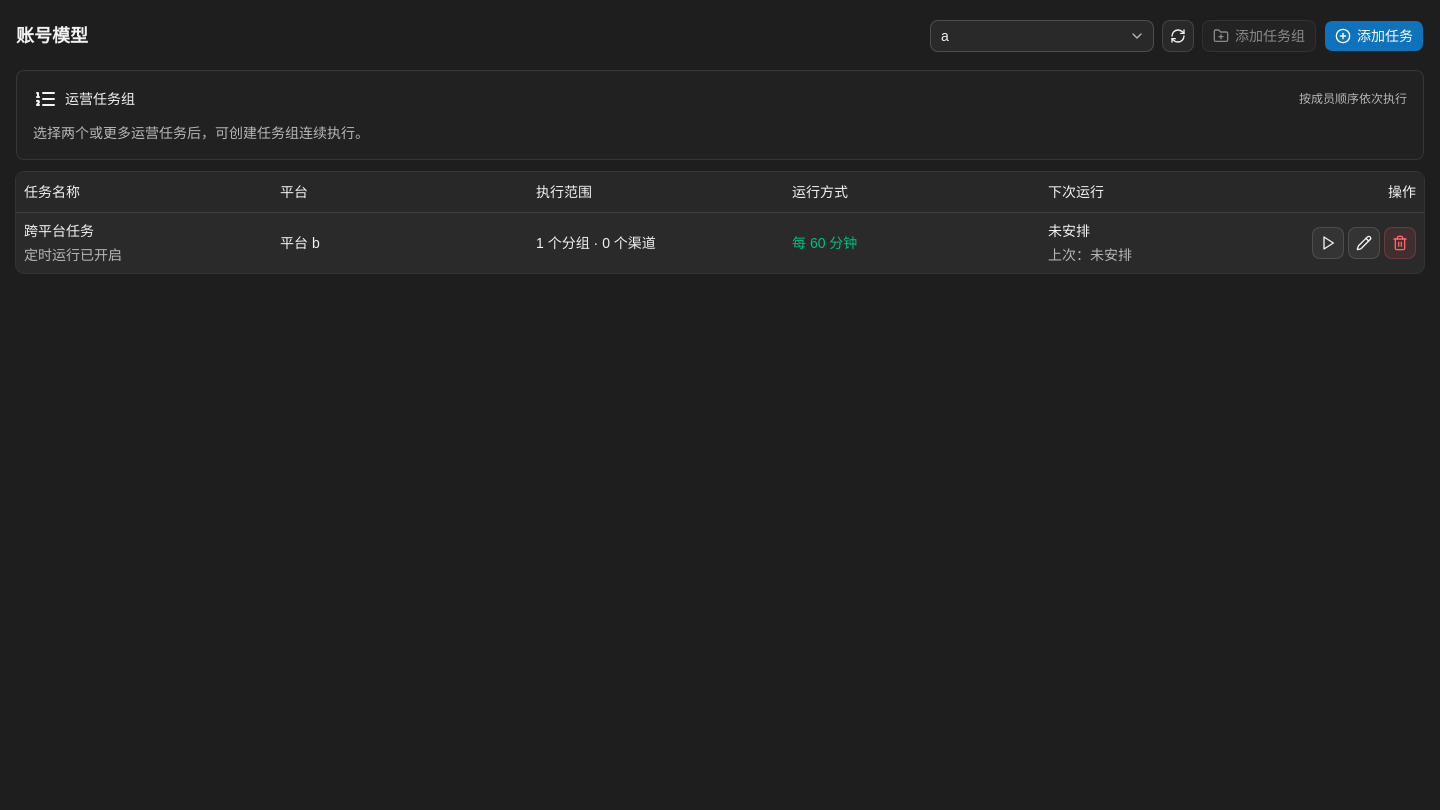
Test: 渠道刷新失败时保留草稿并禁止提交，重试成功后恢复提交入口
The image size is (1440, 810).
Click the button named "编辑" at point(1364, 242), box [1348, 226, 1380, 258]
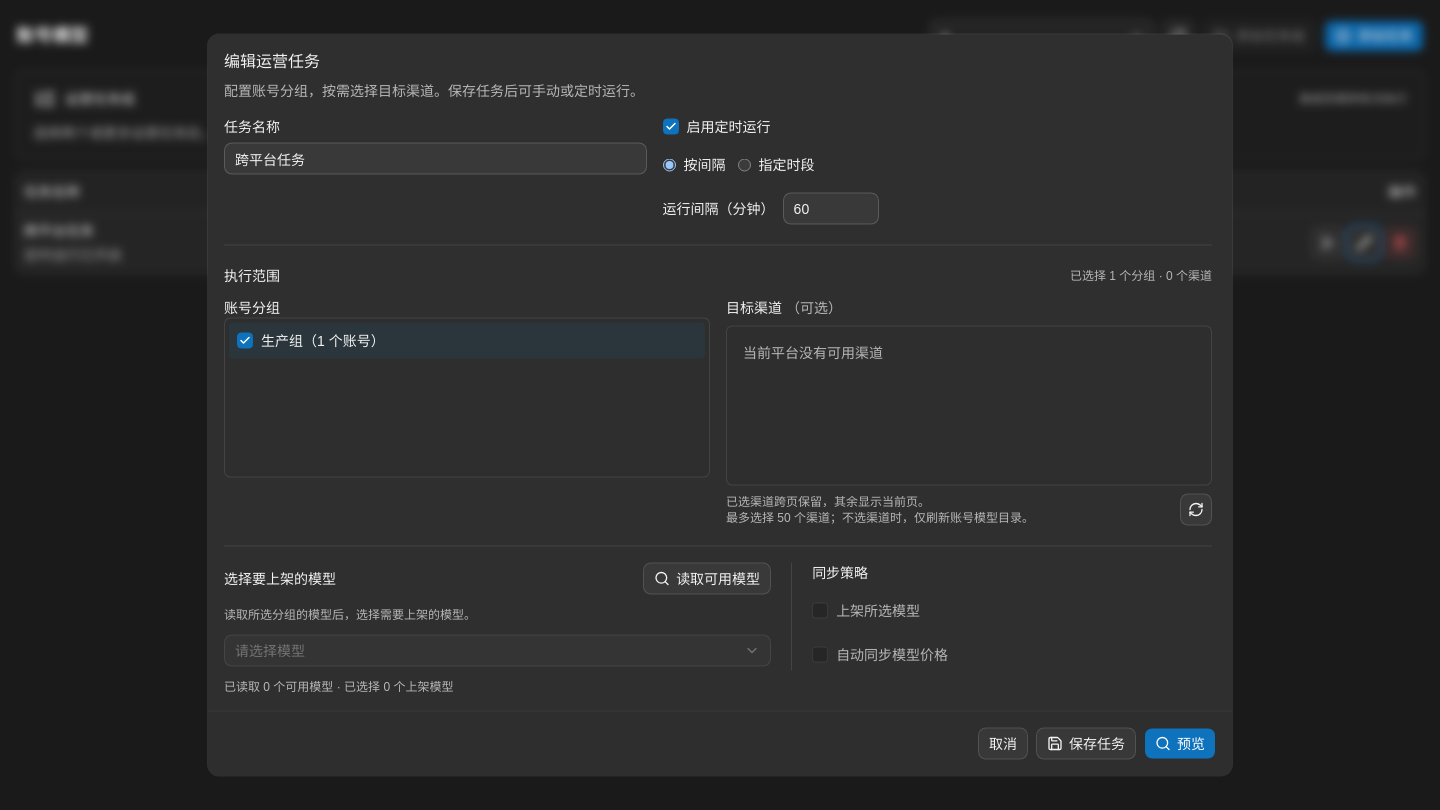
Type "保留草稿" into the field named "运营任务名称" at point(435, 158), box [224, 142, 647, 174]
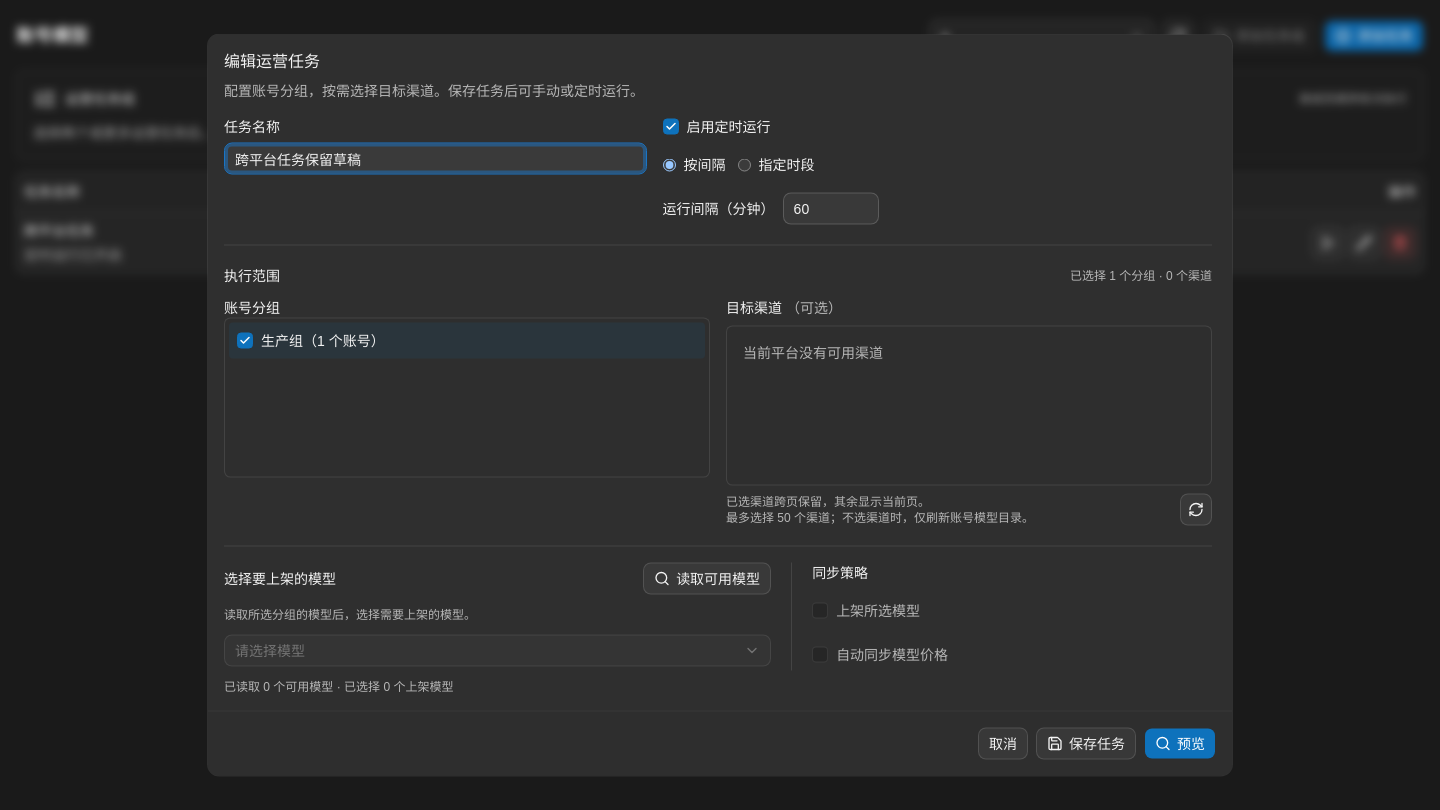
Check: the button "保存任务" is enabled, box [1036, 728, 1136, 760]
Click the button named "重新读取渠道" at point(1196, 510), box [1180, 494, 1212, 526]
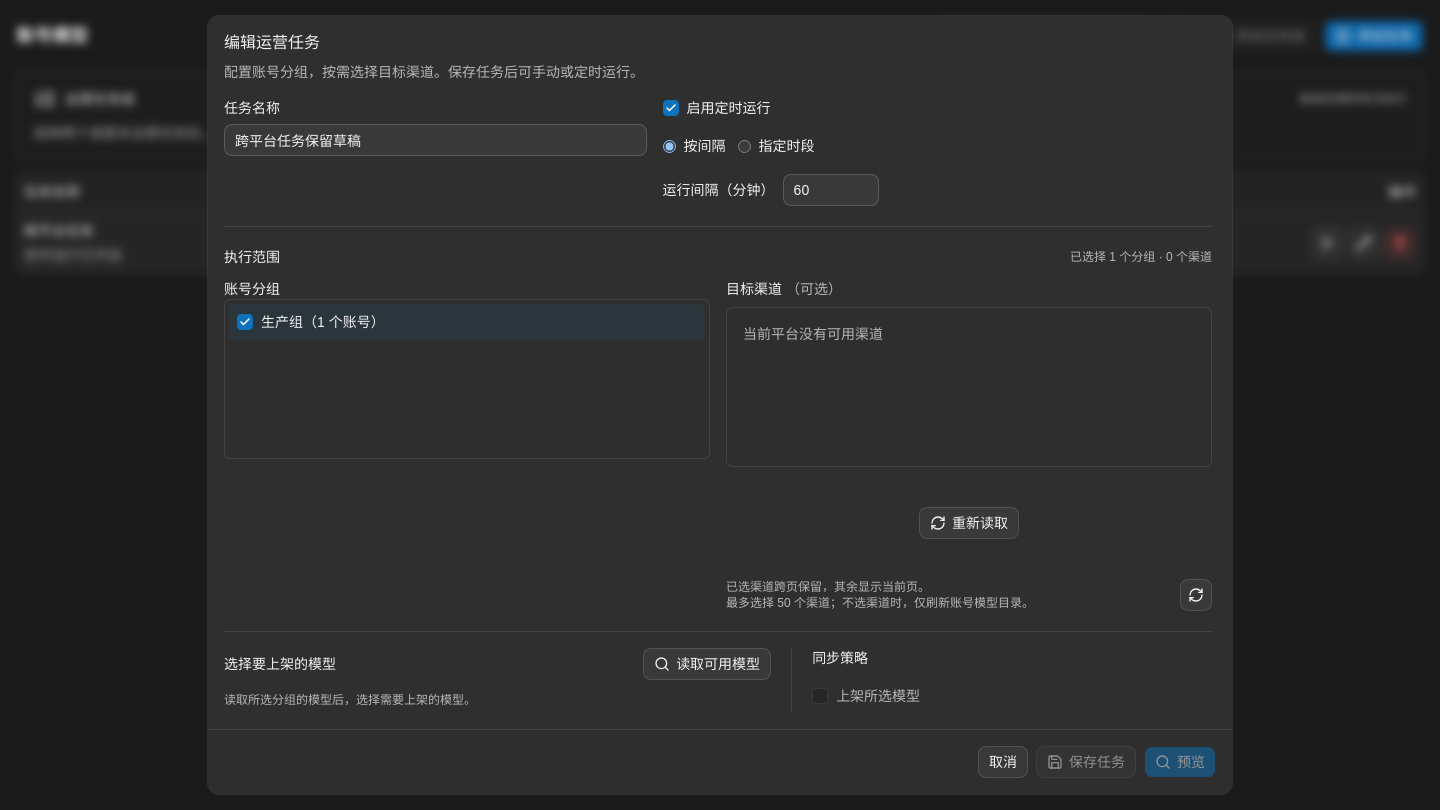
Check: the field named "运营任务名称" holds "跨平台任务保留草稿", box [224, 124, 647, 156]
Check: the button "预览" is disabled, box [1144, 746, 1216, 778]
Check: the button "保存任务" is disabled, box [1036, 746, 1136, 778]
Click the button named "重新读取渠道" at point(1196, 595), box [1180, 579, 1212, 611]
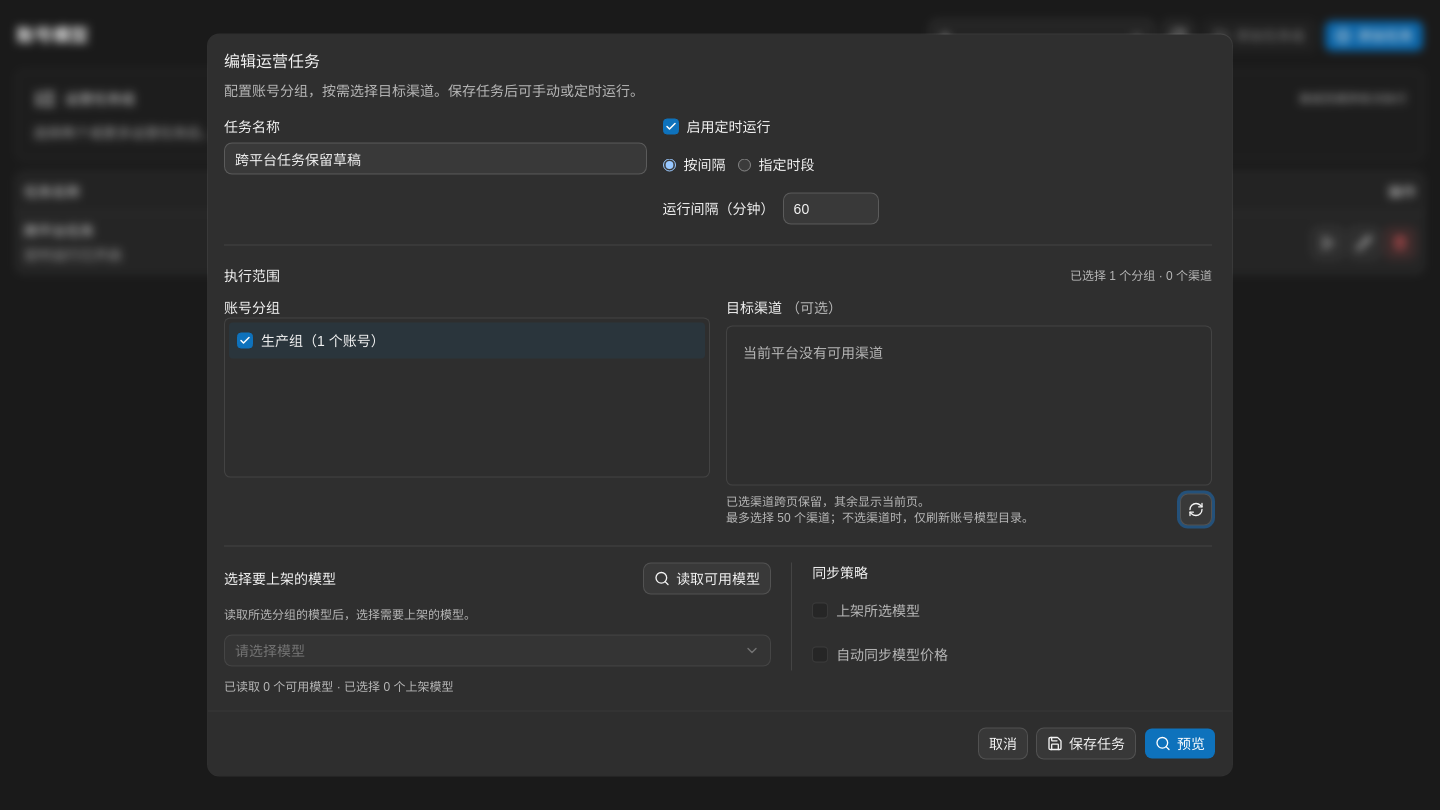
Check: the field named "运营任务名称" holds "跨平台任务保留草稿", box [224, 142, 647, 174]
Check: the button "保存任务" is enabled, box [1036, 728, 1136, 760]
